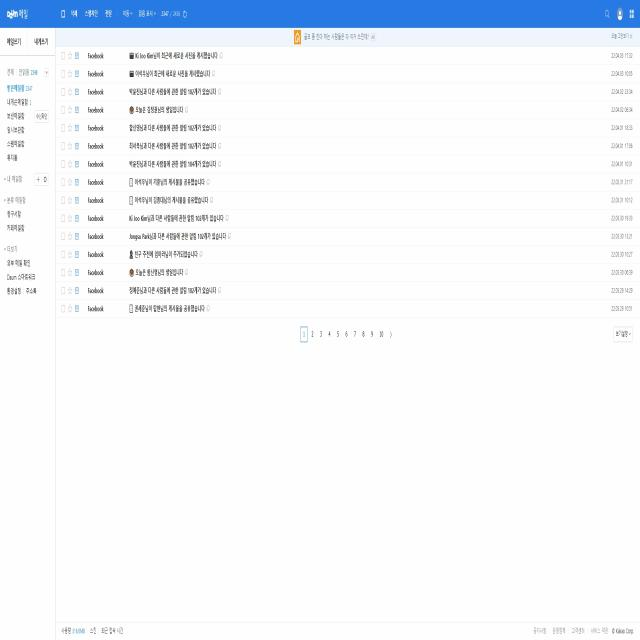menu-bar: (601, 5, 637, 21)
search: (603, 7, 611, 20)
tab-bar: (56, 1, 190, 22)
